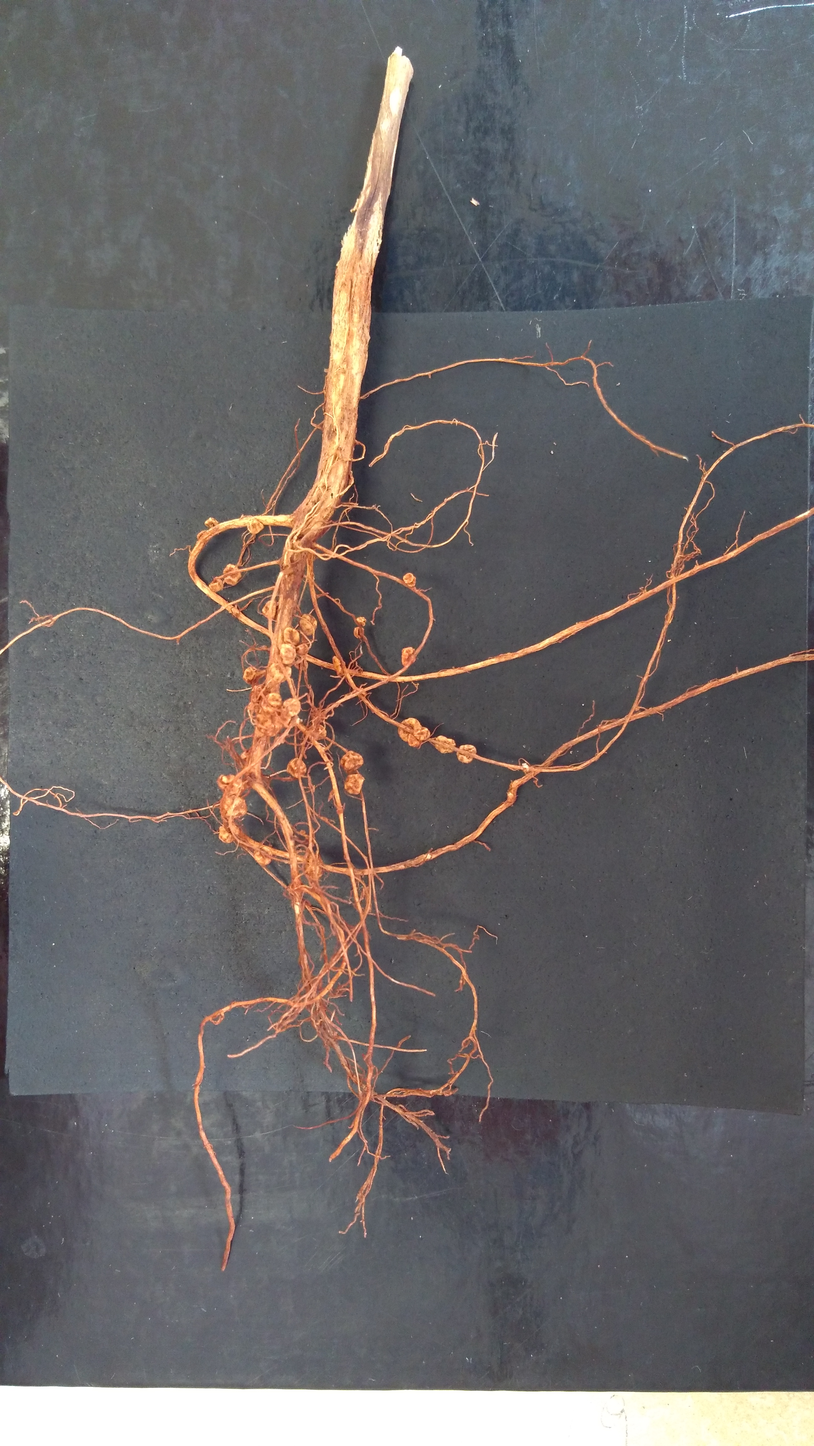nodule: (398, 718, 430, 749), (256, 709, 282, 737), (340, 751, 364, 773), (223, 795, 248, 816), (305, 853, 323, 880), (217, 775, 243, 793), (218, 822, 240, 843), (269, 663, 292, 683), (261, 693, 282, 713), (345, 774, 365, 795), (223, 563, 241, 586), (243, 666, 266, 684), (287, 758, 307, 778), (435, 735, 456, 754), (299, 613, 317, 635), (251, 685, 270, 705), (457, 744, 476, 764), (254, 846, 272, 865), (283, 698, 301, 716), (283, 627, 300, 646), (280, 644, 296, 664), (262, 600, 278, 619), (401, 647, 416, 667), (247, 517, 264, 534), (308, 725, 326, 740), (333, 656, 345, 676), (293, 654, 308, 670), (208, 578, 223, 593), (403, 573, 416, 587), (204, 517, 219, 528), (296, 643, 308, 655), (280, 711, 291, 724), (354, 627, 364, 638), (248, 702, 259, 712), (356, 617, 366, 627), (507, 791, 515, 803), (197, 530, 206, 540), (274, 736, 285, 744), (511, 780, 520, 787), (259, 645, 269, 651), (241, 751, 249, 758), (522, 763, 529, 771), (360, 687, 366, 696), (296, 718, 303, 725)
